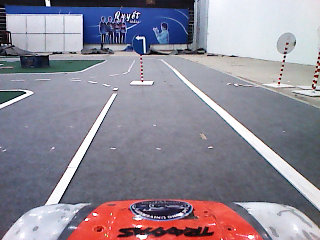turn: (130, 33, 152, 56)
